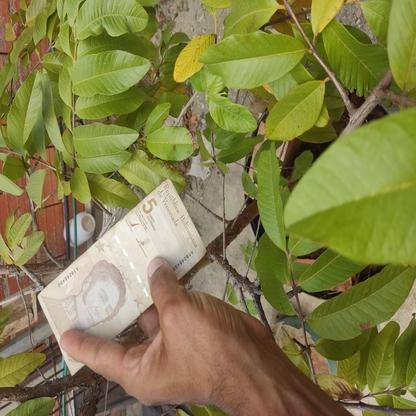five-front-vef: (37, 177, 207, 377)
